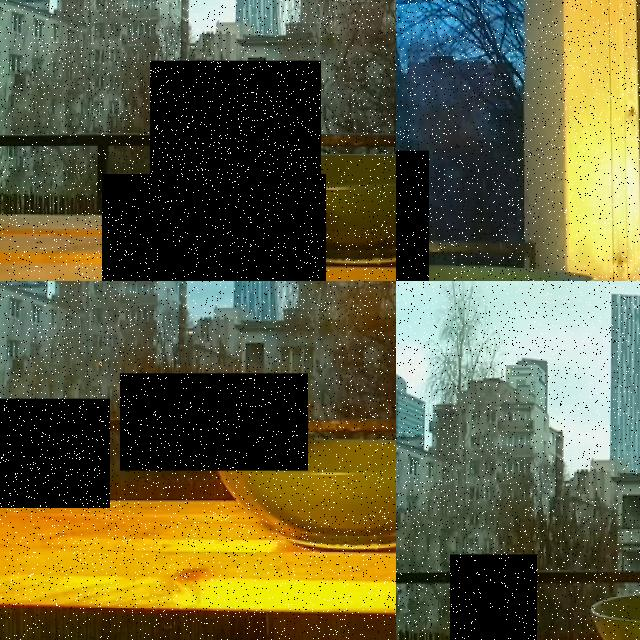Bogatka: (102, 174, 326, 281), (0, 398, 110, 508)
Modraszka: (450, 554, 537, 640)
Wrobel: (150, 61, 321, 175), (120, 373, 308, 471)
